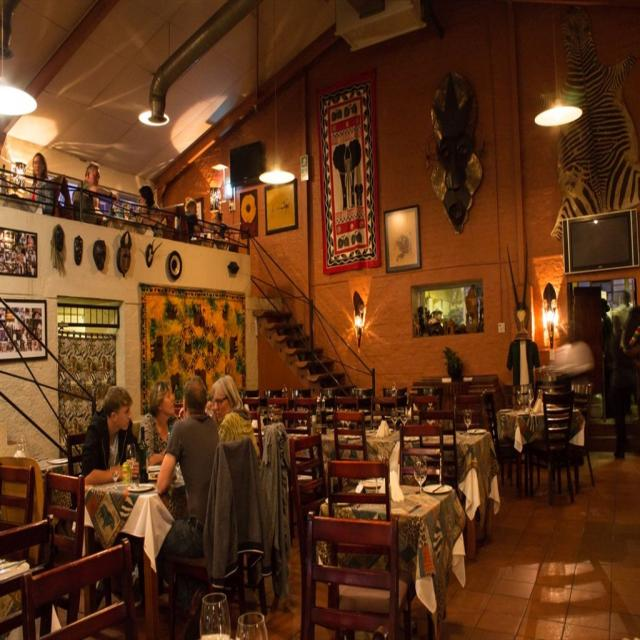person: (157, 370, 221, 576), (81, 386, 151, 506), (206, 349, 264, 461), (23, 147, 67, 218), (78, 151, 109, 227), (129, 170, 167, 228)
